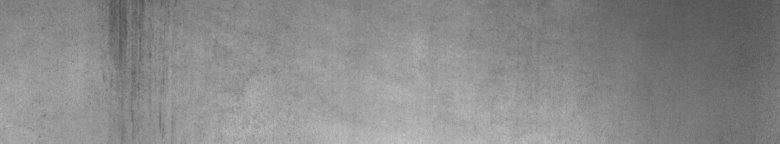ka: (102, 4, 168, 136)
